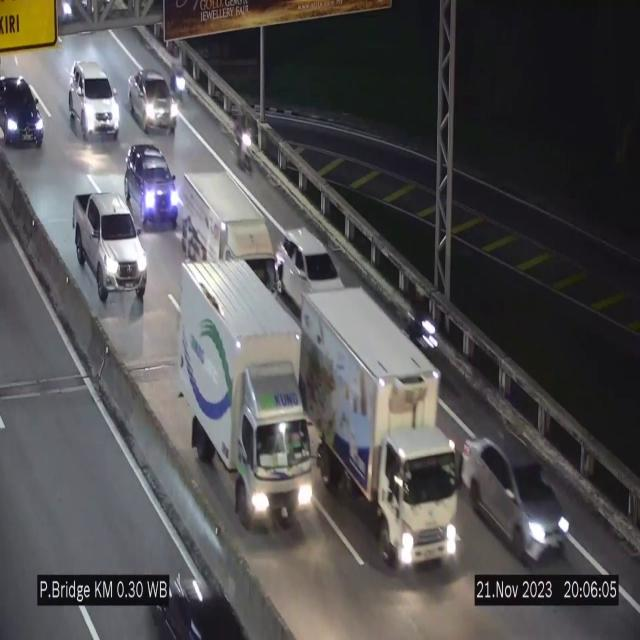Car: (462, 417, 572, 571), (74, 189, 150, 306), (153, 568, 245, 640), (278, 227, 346, 313), (123, 142, 181, 228), (69, 56, 121, 141), (0, 71, 48, 156), (128, 64, 178, 138)
Motorcycle: (408, 294, 441, 361), (232, 105, 258, 180), (169, 47, 187, 107)
Truck: (297, 288, 457, 566), (178, 256, 314, 532), (184, 175, 284, 306)
